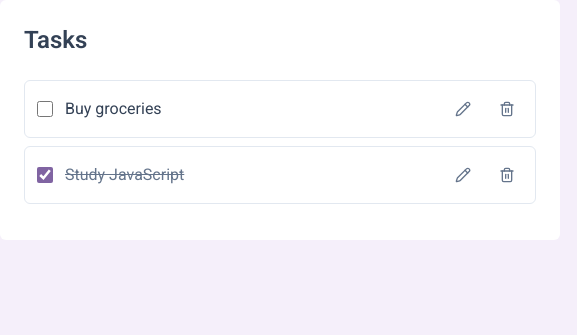
Test: TaskList › allows a task title to be edited and saved
The width and height of the screenshot is (577, 335).
Click the button named "Edit Buy groceries" at (463, 109), box [447,93,479,125]
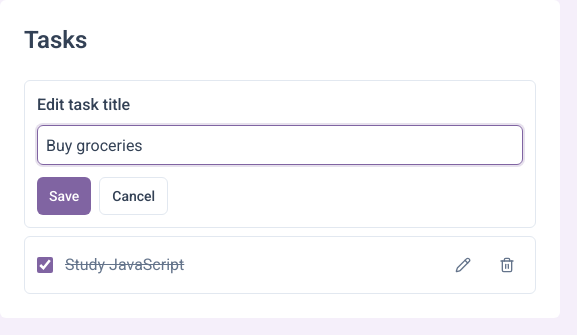
Replace the text in the field labelled "Edit task title" with "Buy vegetables" at (280, 145), box [37,125,523,165]
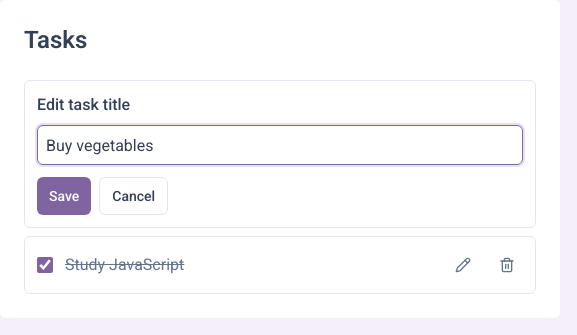
Click the button "Save" at (64, 196), box [37,177,91,215]
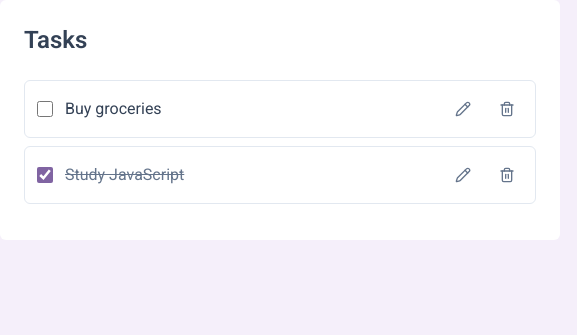
Now the label "Edit task title" is gone
